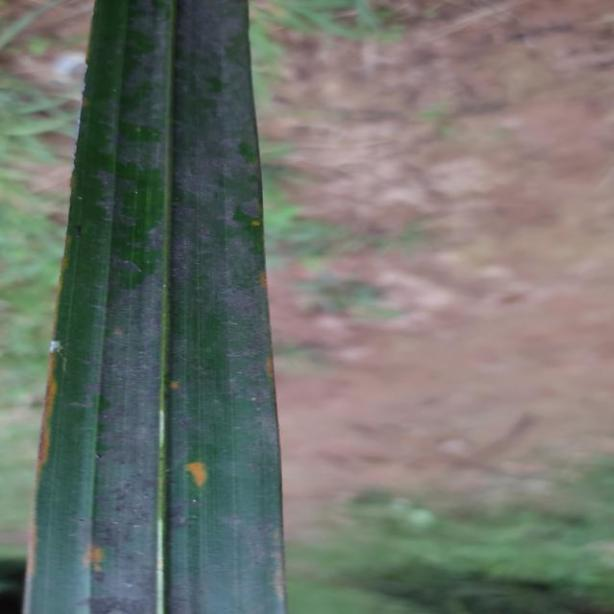Kalium: (22, 0, 288, 614)
